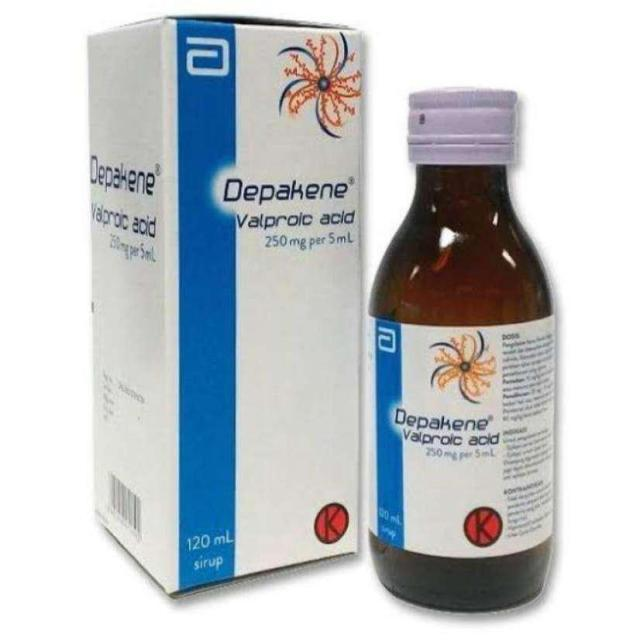drug-name: (222, 177, 350, 203)
